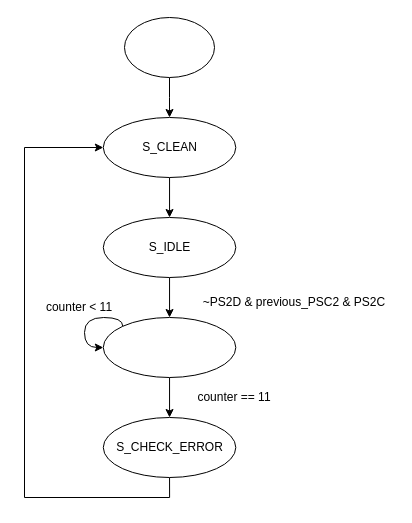
This 412x523 diagram has some shape labels left out. Each missing label, with the centre of its shape:
"S_RECEIVE" goes at pixel 169 347.
"Start" goes at pixel 169 47.
